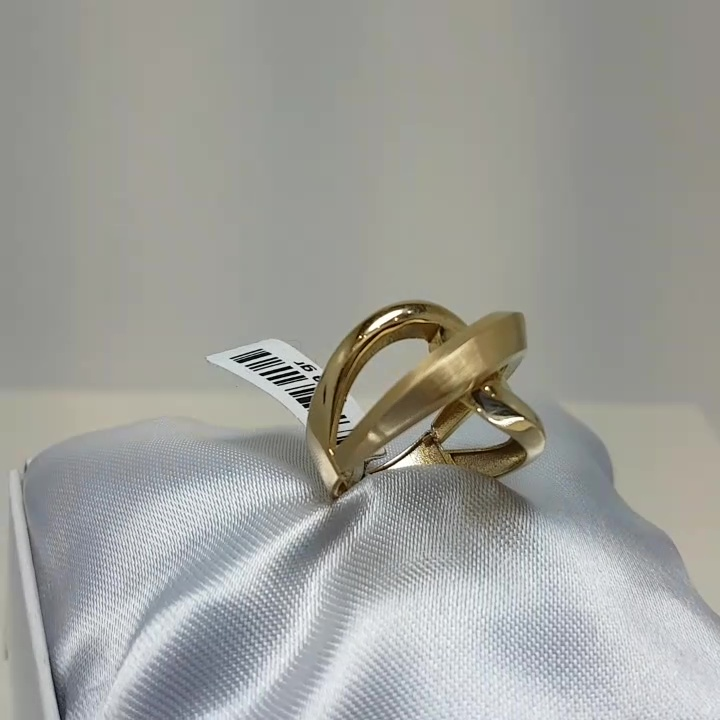Ring 3: (302, 273, 548, 529)
